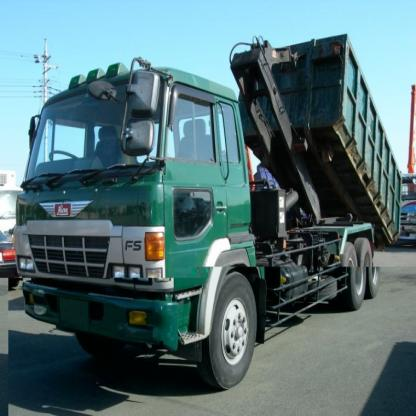dump_truck: (16, 27, 411, 392)
